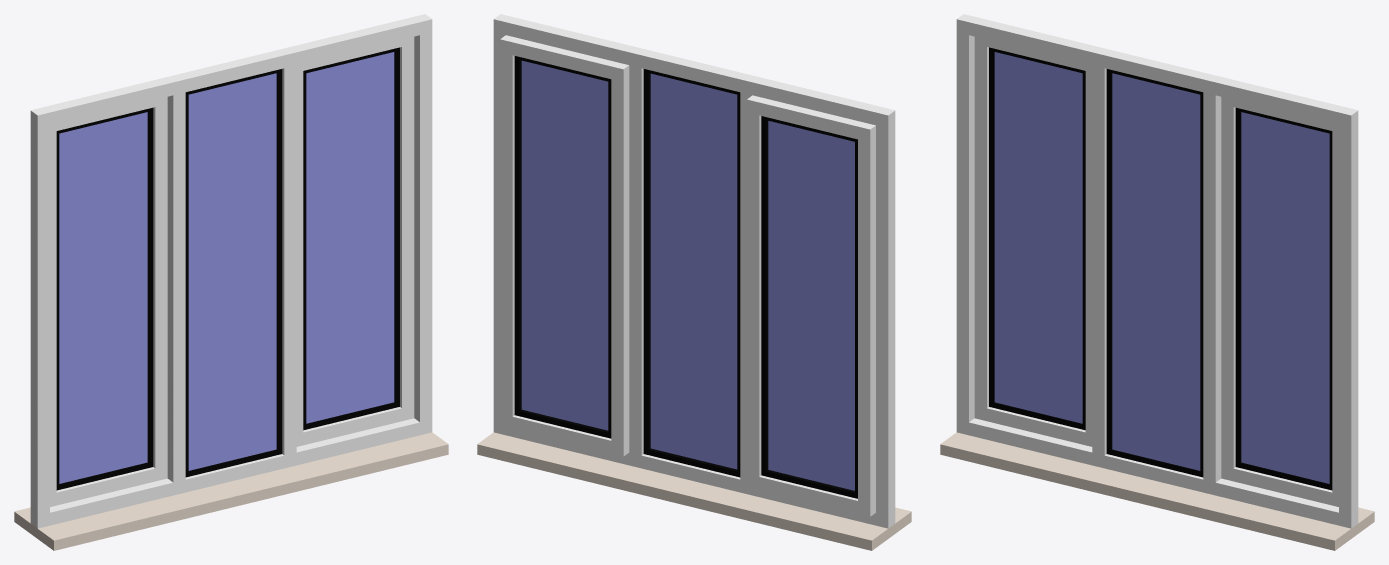
The model's file is large window fixed.fbx.
3 renders of one model, left to right at view 1: azimuth 30°, elevation 25°; view 2: azimuth 150°, elevation 25°; view 3: azimuth 330°, elevation 25°, orthographic.
Visible parts, largest first — view 1: window glass, window frame, window sealing; view 2: window glass, window frame, window sealing; view 3: window glass, window frame, window sealing.
Part boxes in pixels (x1=…): window glass: x1=59, y1=52, x2=394, y2=483; window frame: x1=14, y1=14, x2=448, y2=550; window sealing: x1=56, y1=47, x2=399, y2=490; window glass: x1=521, y1=60, x2=854, y2=490; window frame: x1=477, y1=14, x2=911, y2=550; window sealing: x1=514, y1=56, x2=857, y2=498; window glass: x1=994, y1=52, x2=1329, y2=483; window frame: x1=940, y1=14, x2=1374, y2=550; window sealing: x1=989, y1=47, x2=1332, y2=490.
Bounding box in the file's own units: 160 × 164 × 28.
